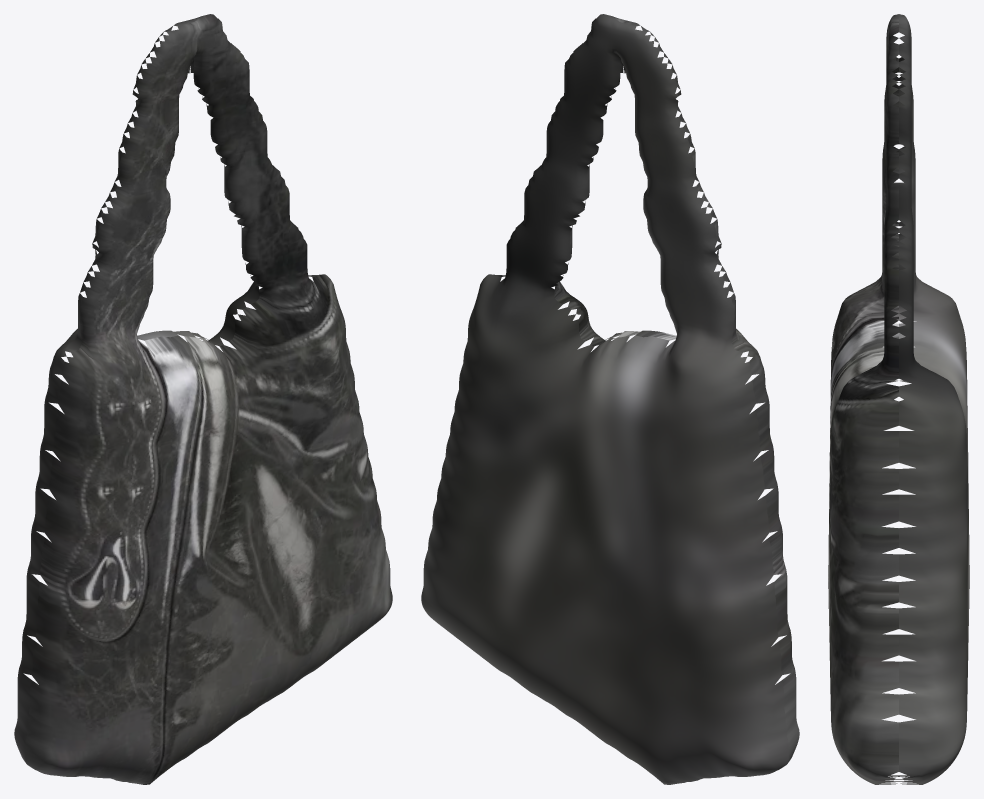
File: arenal-grey.glb
3 views of the same model, side by side, from view 1: azimuth 30°, elevation 25°; view 2: azimuth 150°, elevation 25°; view 3: azimuth 270°, elevation 25° (orthographic). The views are drawn at different scales.
Visible parts, largest first — view 1: arenal-grey; view 2: arenal-grey; view 3: arenal-grey.
Part boxes in pixels (x1=…): arenal-grey: x1=14, y1=14, x2=392, y2=784; arenal-grey: x1=421, y1=14, x2=799, y2=784; arenal-grey: x1=828, y1=14, x2=969, y2=784.
Size of the model in its own units: 0.361 by 0.7168 by 0.1165.
2 materials, 2 textured.
